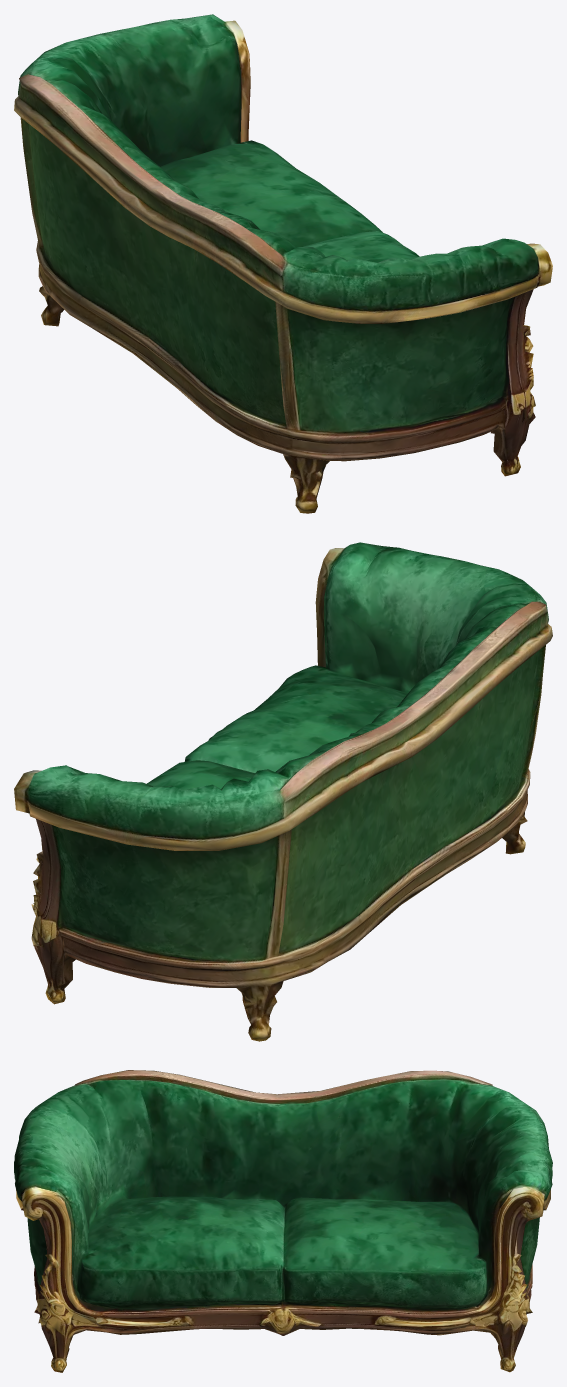
The model's file is greenvelvetsofa3dmodel.glb.
3 views of the same model, one above another, from view 1: azimuth 30°, elevation 25°; view 2: azimuth 150°, elevation 25°; view 3: azimuth 270°, elevation 25° (orthographic). The views are drawn at different scales.
Parts seen in each view (by area): view 1: tripo_node_2deaa81a-379e-4633-905f-af74bffb8c26; view 2: tripo_node_2deaa81a-379e-4633-905f-af74bffb8c26; view 3: tripo_node_2deaa81a-379e-4633-905f-af74bffb8c26.
Boxes of the visible parts, x1=… form: tripo_node_2deaa81a-379e-4633-905f-af74bffb8c26: x1=14, y1=14, x2=552, y2=513; tripo_node_2deaa81a-379e-4633-905f-af74bffb8c26: x1=14, y1=542, x2=552, y2=1041; tripo_node_2deaa81a-379e-4633-905f-af74bffb8c26: x1=14, y1=1070, x2=552, y2=1372.
Size of the model in its own units: 0.4416 by 0.425 by 0.9792.
Materials: 1 (1 with a texture image).
